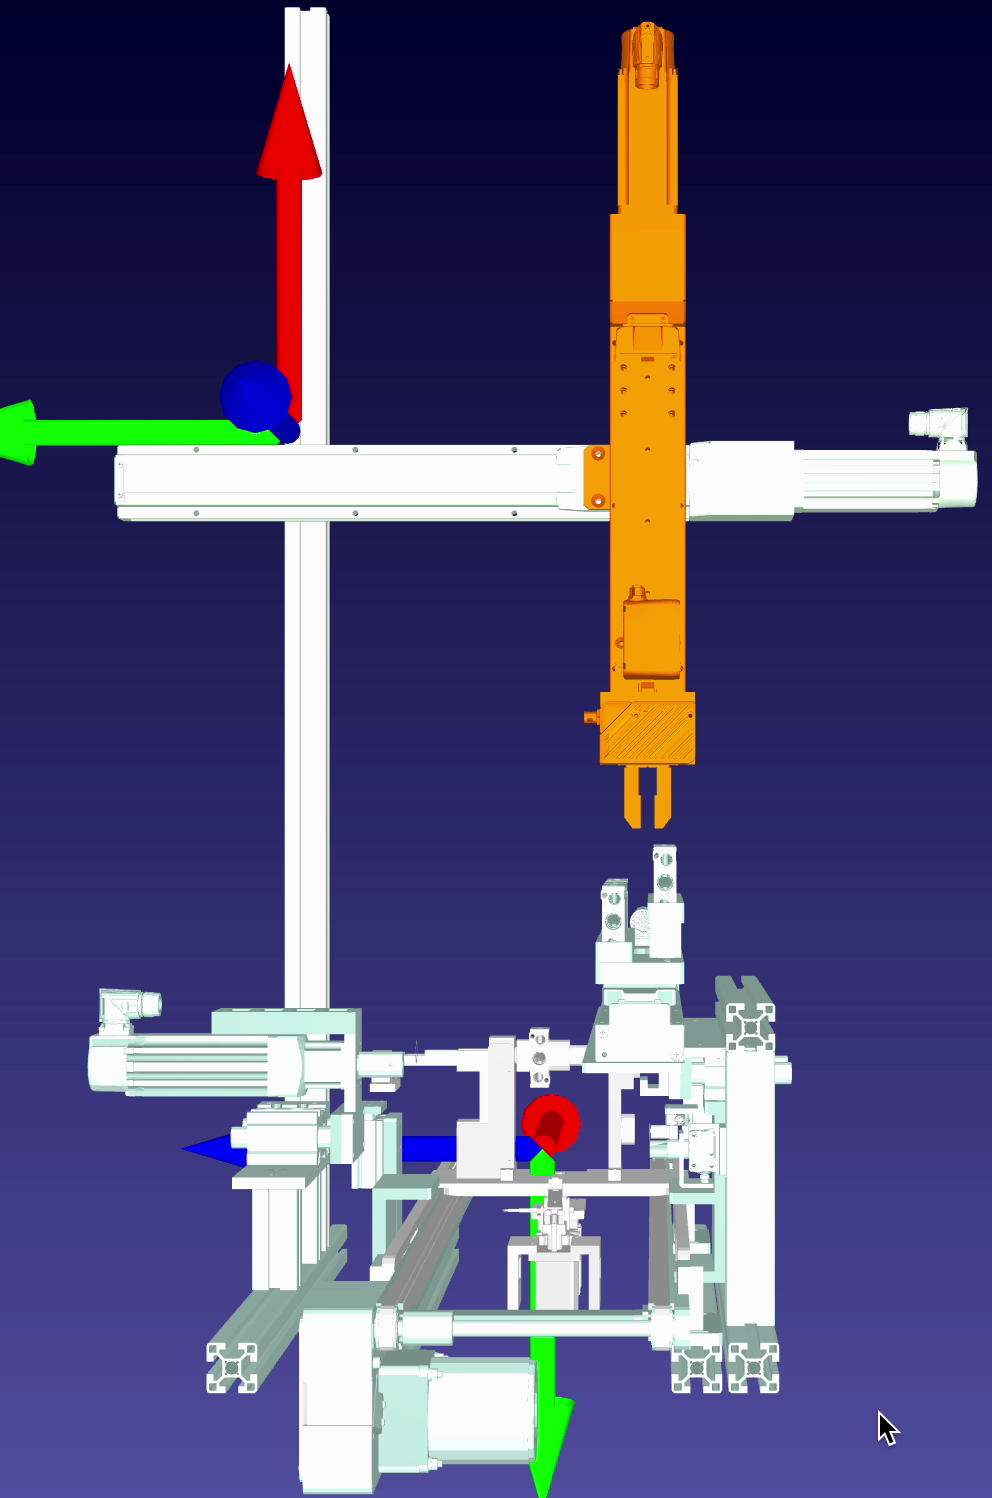Gripper: (593, 678, 702, 834)
